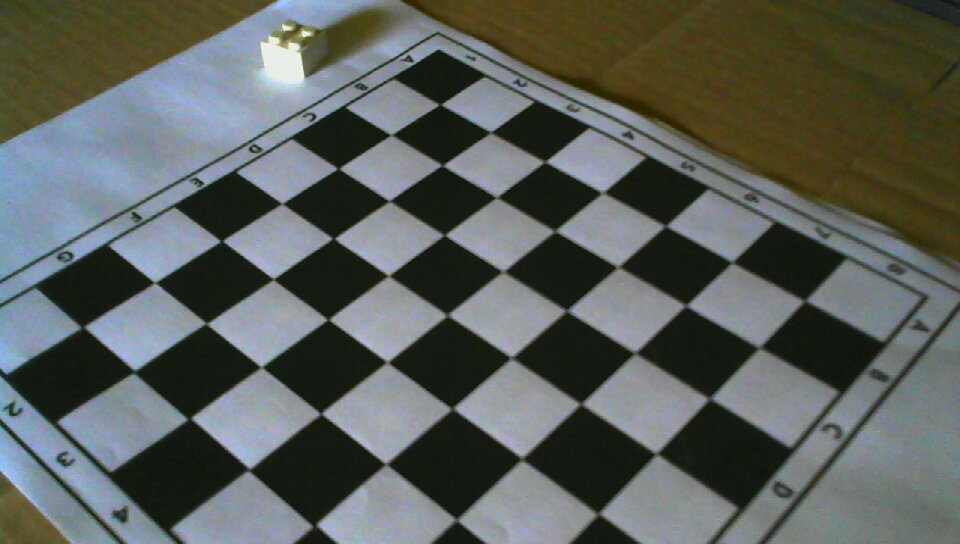wp: (260, 18, 329, 78)
